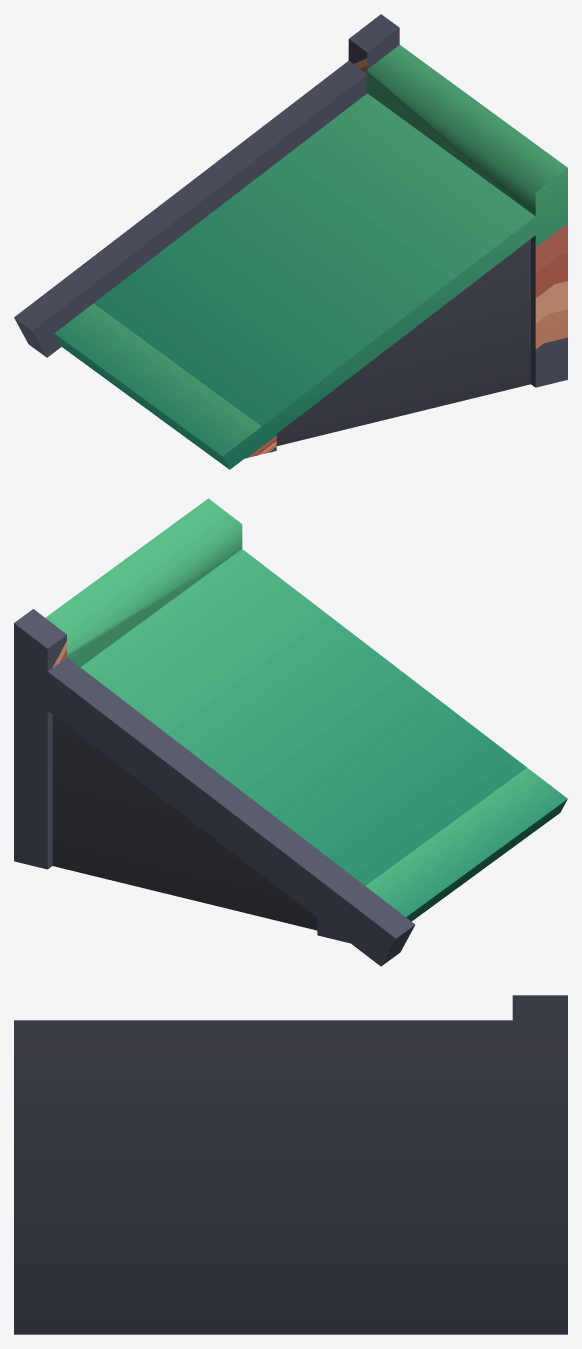
The model's file is roof-left.glb.
3 views of the same model, one above another, from view 1: azimuth 30°, elevation 25°; view 2: azimuth 150°, elevation 25°; view 3: azimuth 270°, elevation 25° (orthographic). The views are drawn at different scales.
Parts seen in each view (by area): view 1: roof-left; view 2: roof-left; view 3: roof-left.
Boxes of the visible parts, x1,y1,x2,y2 form: roof-left: (14, 14, 567, 469); roof-left: (14, 498, 567, 966); roof-left: (14, 995, 567, 1334).
Bounding box in the file's own units: 1.13 × 0.7206 × 1.
1 material, 1 textured.
